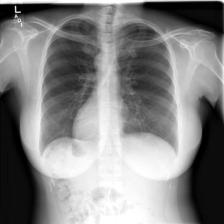normal: (34, 15, 179, 161)
